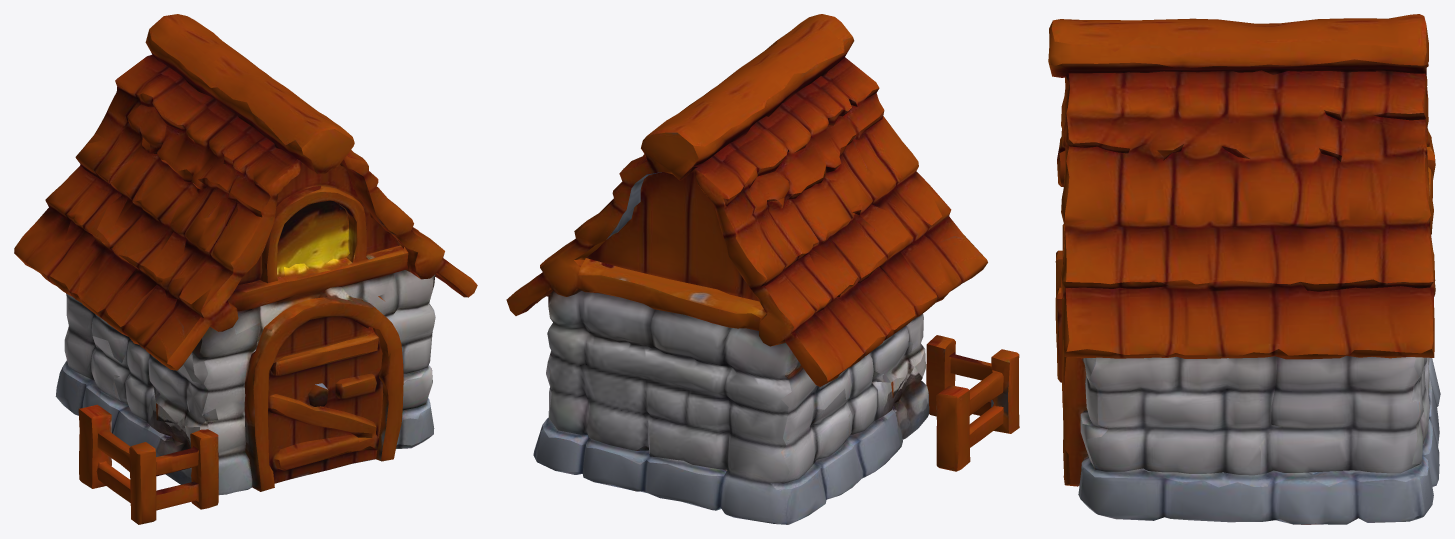
The model's file is fold.glb.
The picture shows the model from 3 angles, left to right: view 1: azimuth 30°, elevation 25°; view 2: azimuth 150°, elevation 25°; view 3: azimuth 270°, elevation 25°; orthographic projection. The views are drawn at different scales.
Parts seen in each view (by area): view 1: fold; view 2: fold; view 3: fold.
Boxes of the visible parts, left/top/right/bottom form: fold: left=14, top=14, right=477, bottom=524; fold: left=506, top=14, right=1019, bottom=524; fold: left=1048, top=14, right=1440, bottom=524.
Bounding box in the file's own units: 1 × 0.9877 × 0.8256.
Materials: 1 (1 with a texture image).
